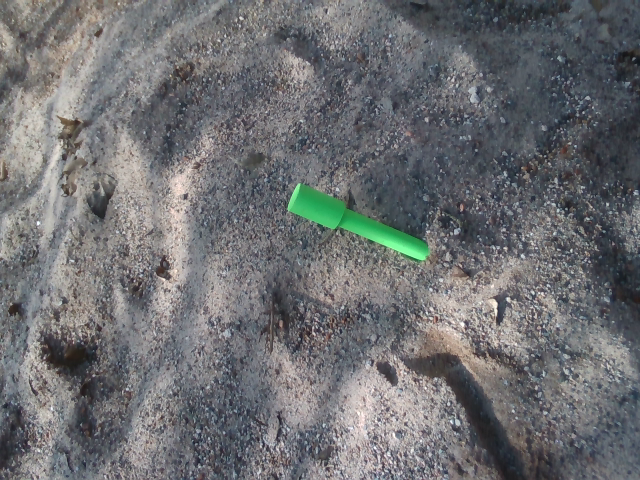Probe: (281, 176, 456, 274)
